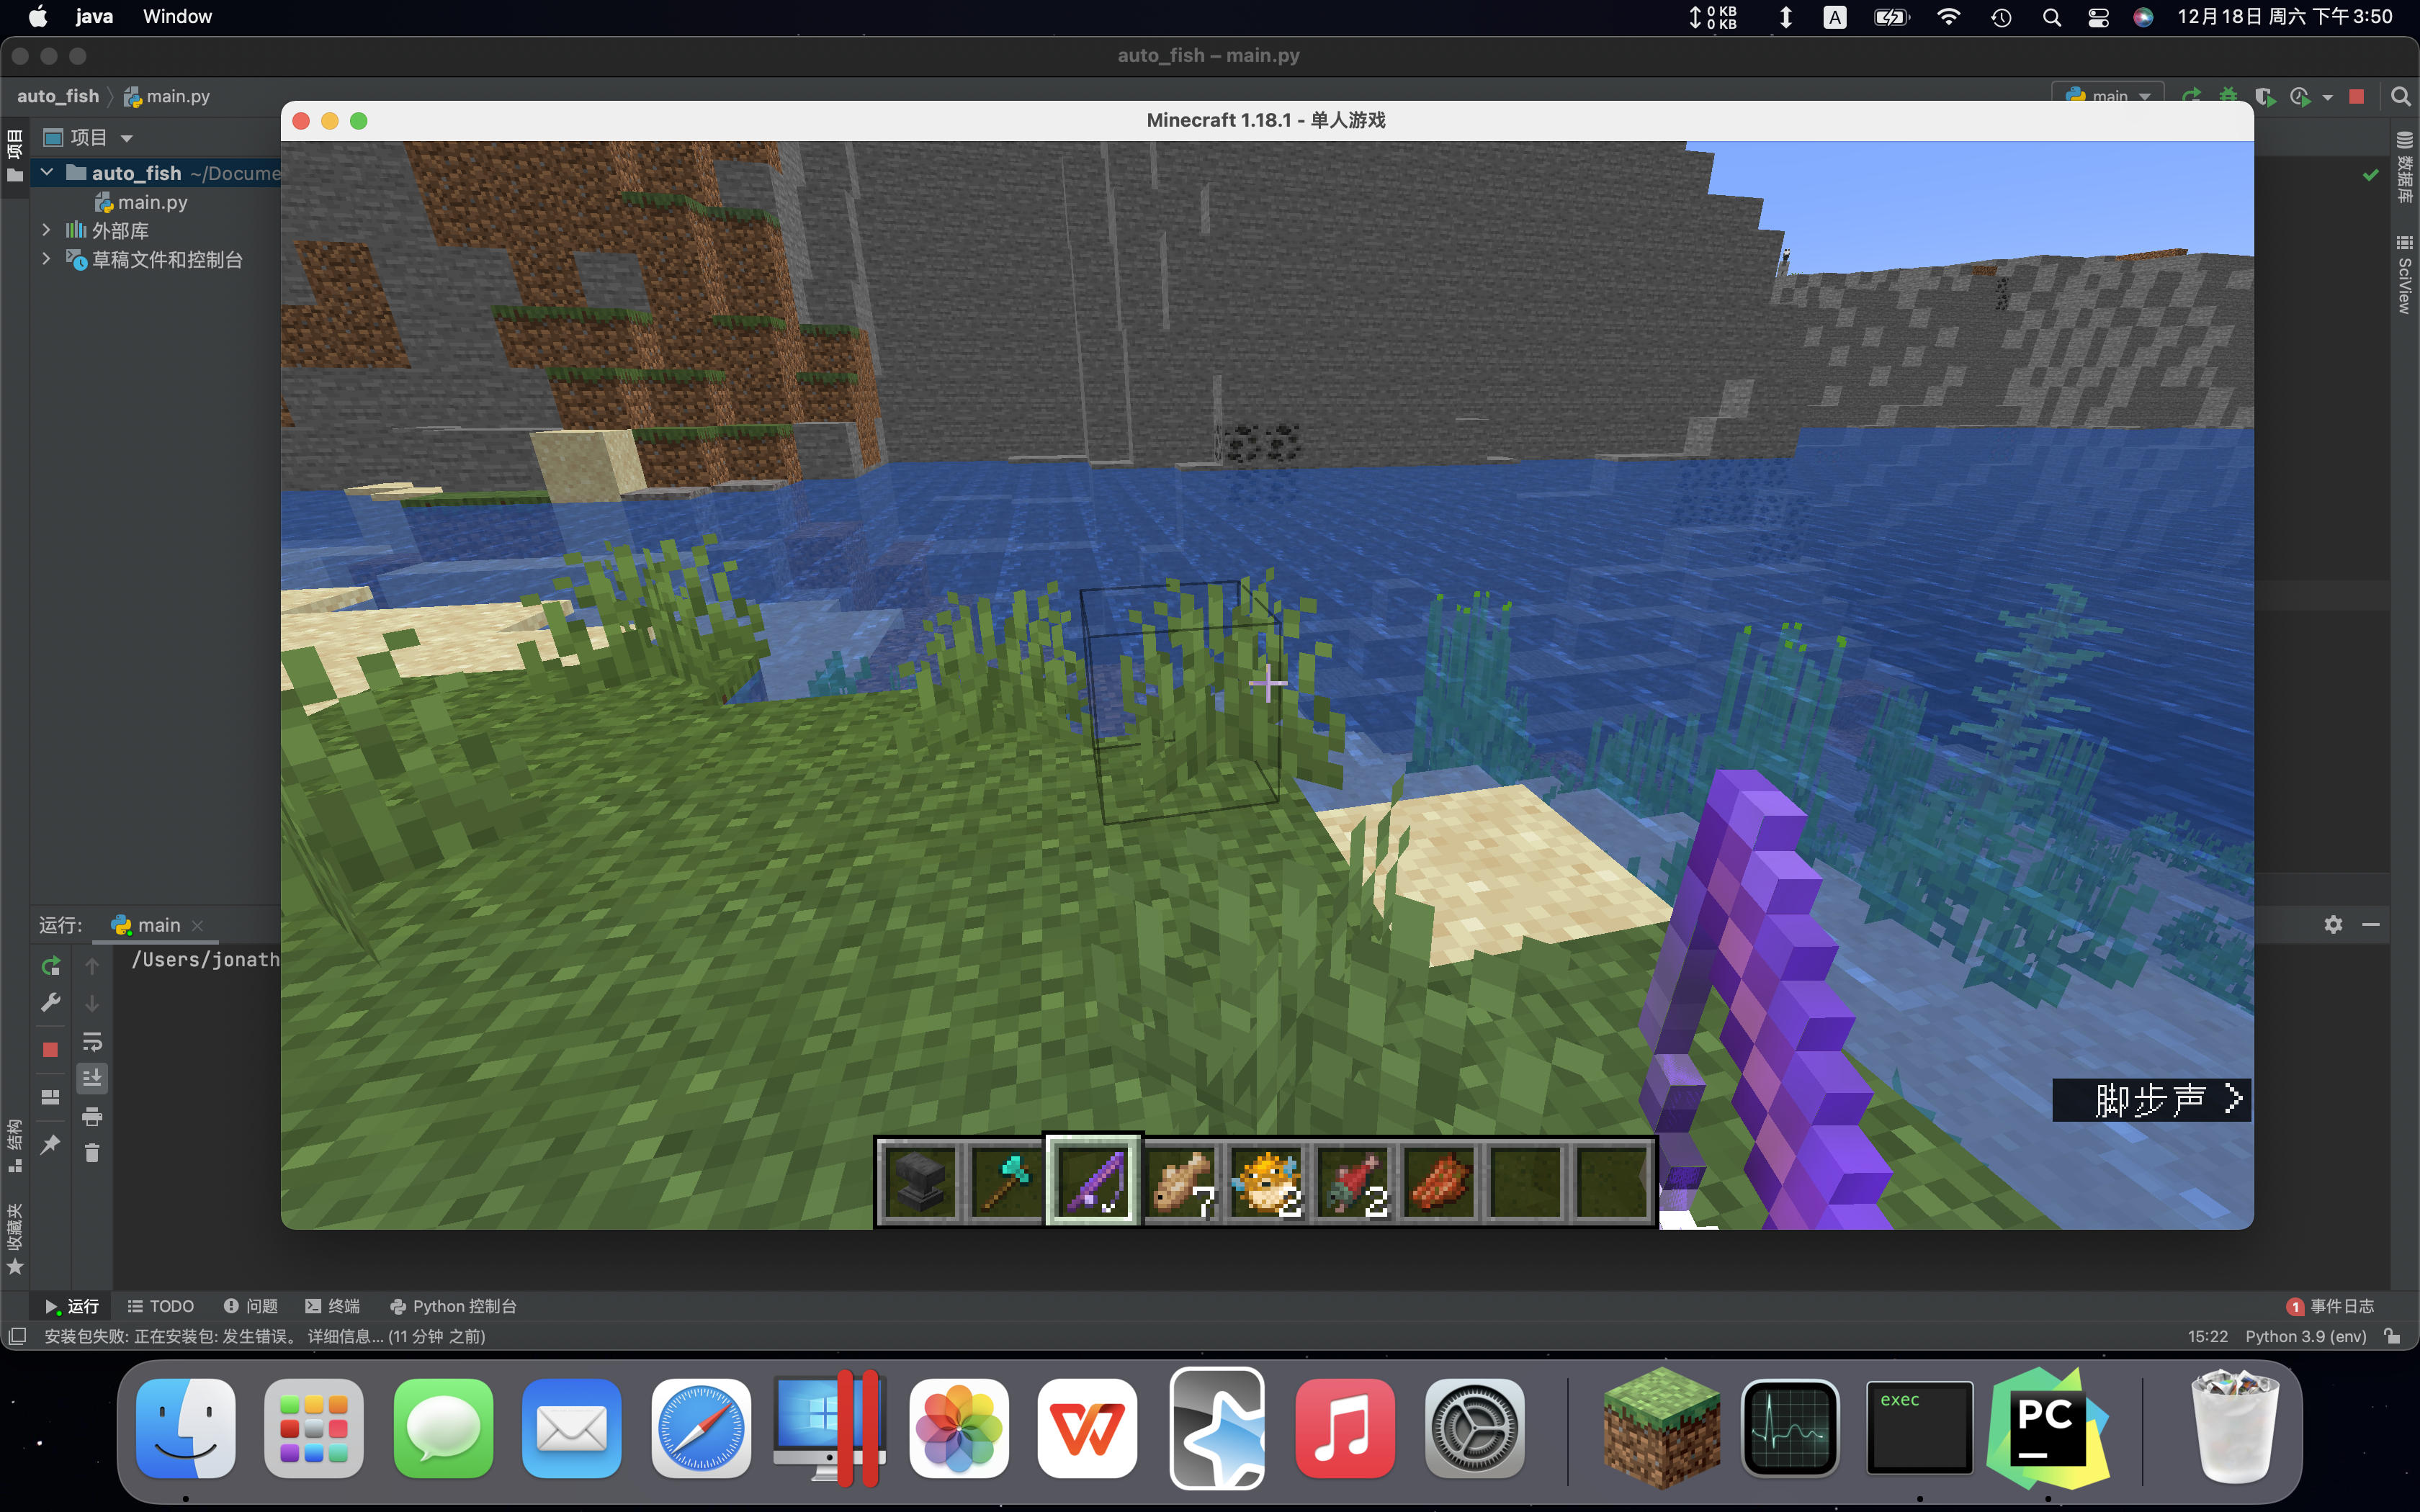inf: (2052, 1077, 2253, 1125)
